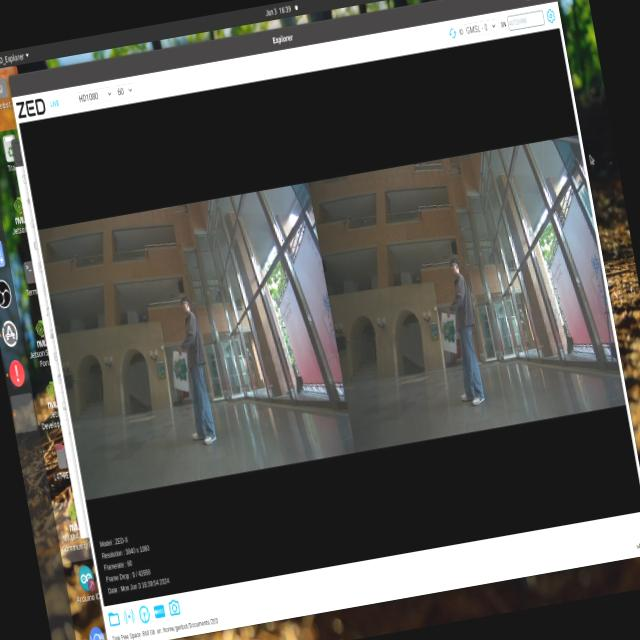green: (436, 311, 461, 355), (168, 352, 194, 391)
